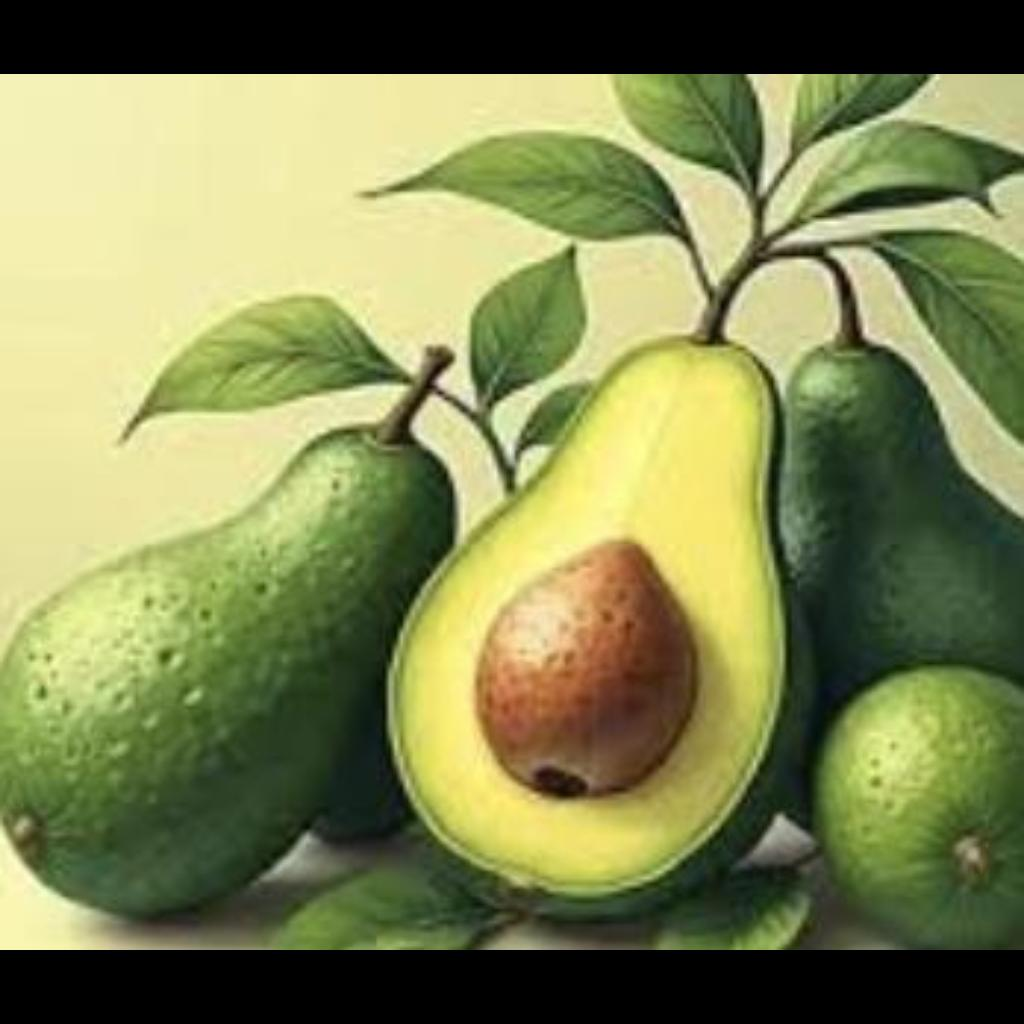fruto_sano: (434, 348, 811, 900), (9, 444, 433, 903)
